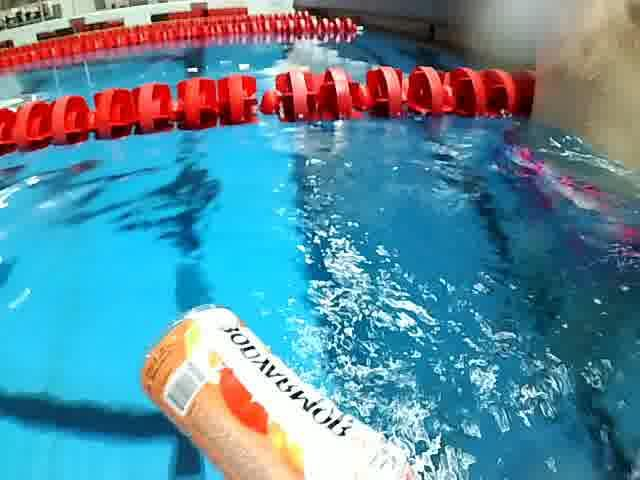Bottle: (131, 292, 438, 480)
